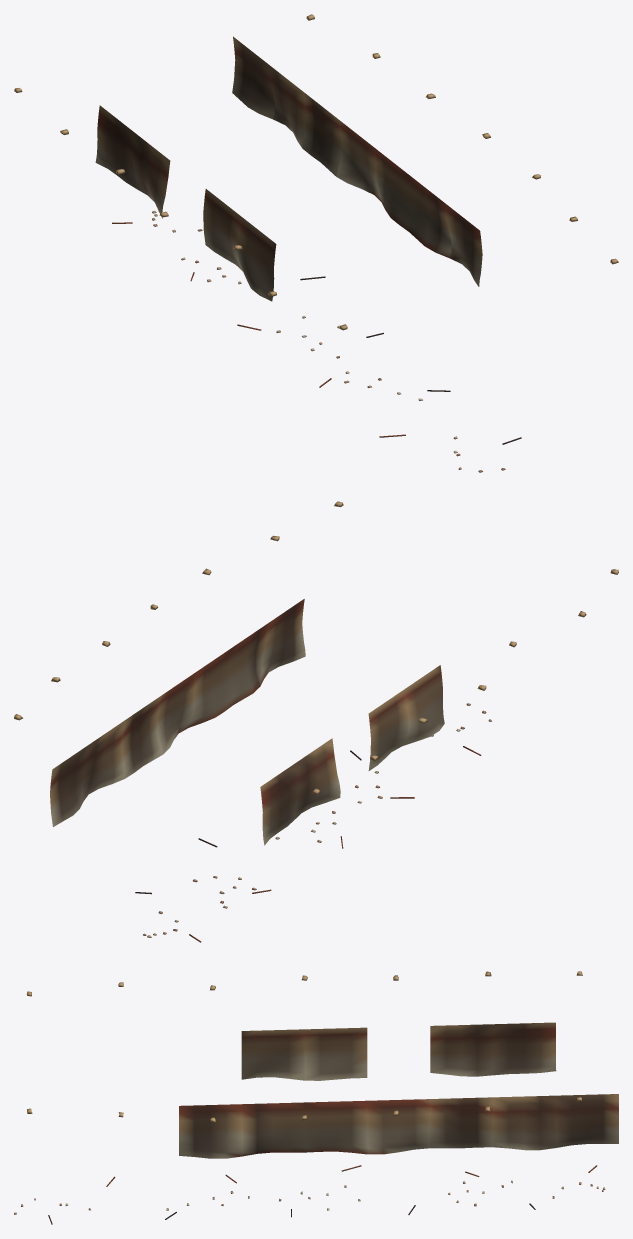
File: slot_canyon_flow_detail2.glb
The picture shows the model from 3 angles, top to bottom: view 1: azimuth 30°, elevation 25°; view 2: azimuth 150°, elevation 25°; view 3: azimuth 270°, elevation 25°; orthographic projection. The views are drawn at different scales.
Visible parts, largest first — view 1: slot_canyon_flow_detail2; view 2: slot_canyon_flow_detail2; view 3: slot_canyon_flow_detail2.
Boxes of the visible parts, <box> form: slot_canyon_flow_detail2: <box>14,14,618,472</box>; slot_canyon_flow_detail2: <box>14,501,618,942</box>; slot_canyon_flow_detail2: <box>14,971,618,1224</box>.
Bounding box in the file's own units: 25.79 × 14.39 × 46.19.
